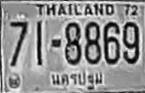1: (36, 20, 41, 64)
6: (104, 22, 120, 64)
7: (9, 20, 27, 66)
8: (65, 22, 81, 65), (85, 22, 101, 64)
9: (123, 22, 139, 64)
NPT: (49, 69, 106, 91)
